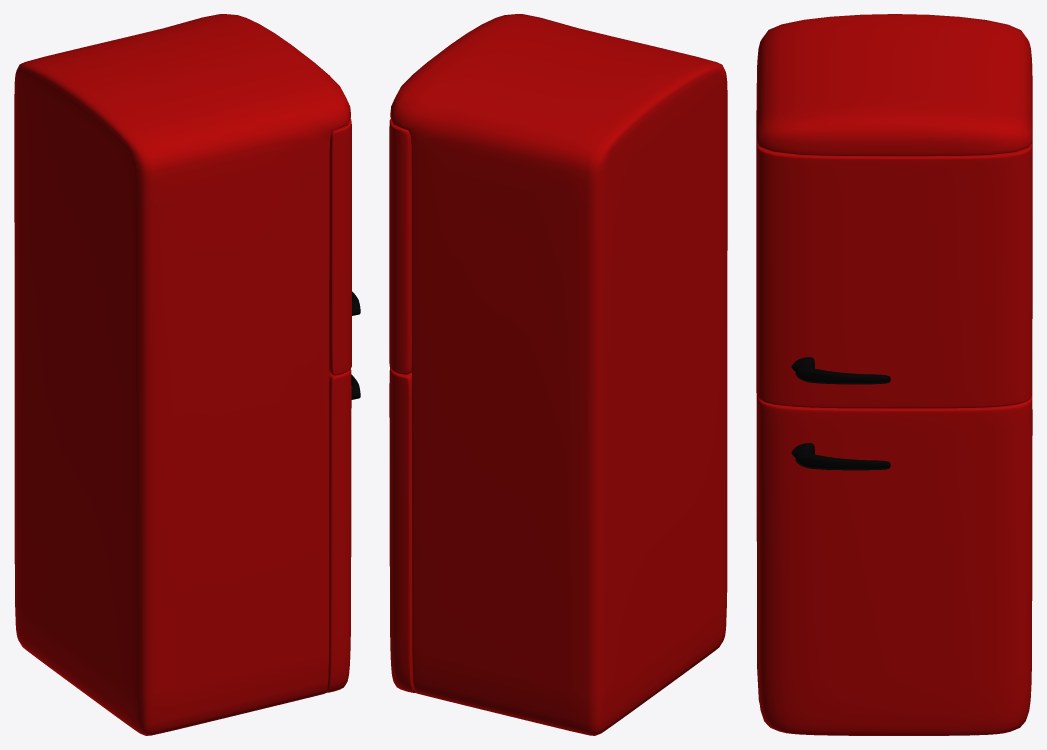
3 views of the same model, side by side, from view 1: azimuth 30°, elevation 25°; view 2: azimuth 150°, elevation 25°; view 3: azimuth 270°, elevation 25° (orthographic). The views are drawn at different scales.
Visible parts, largest first — view 1: Bx; view 2: Bx; view 3: Bx.
Boxes of the visible parts, box(x1,y1,x2,y2) form: Bx: box(14, 14, 360, 735); Bx: box(389, 14, 727, 735); Bx: box(756, 14, 1032, 735).
Bounding box in the file's own units: 52.14 × 121 × 49.17.
